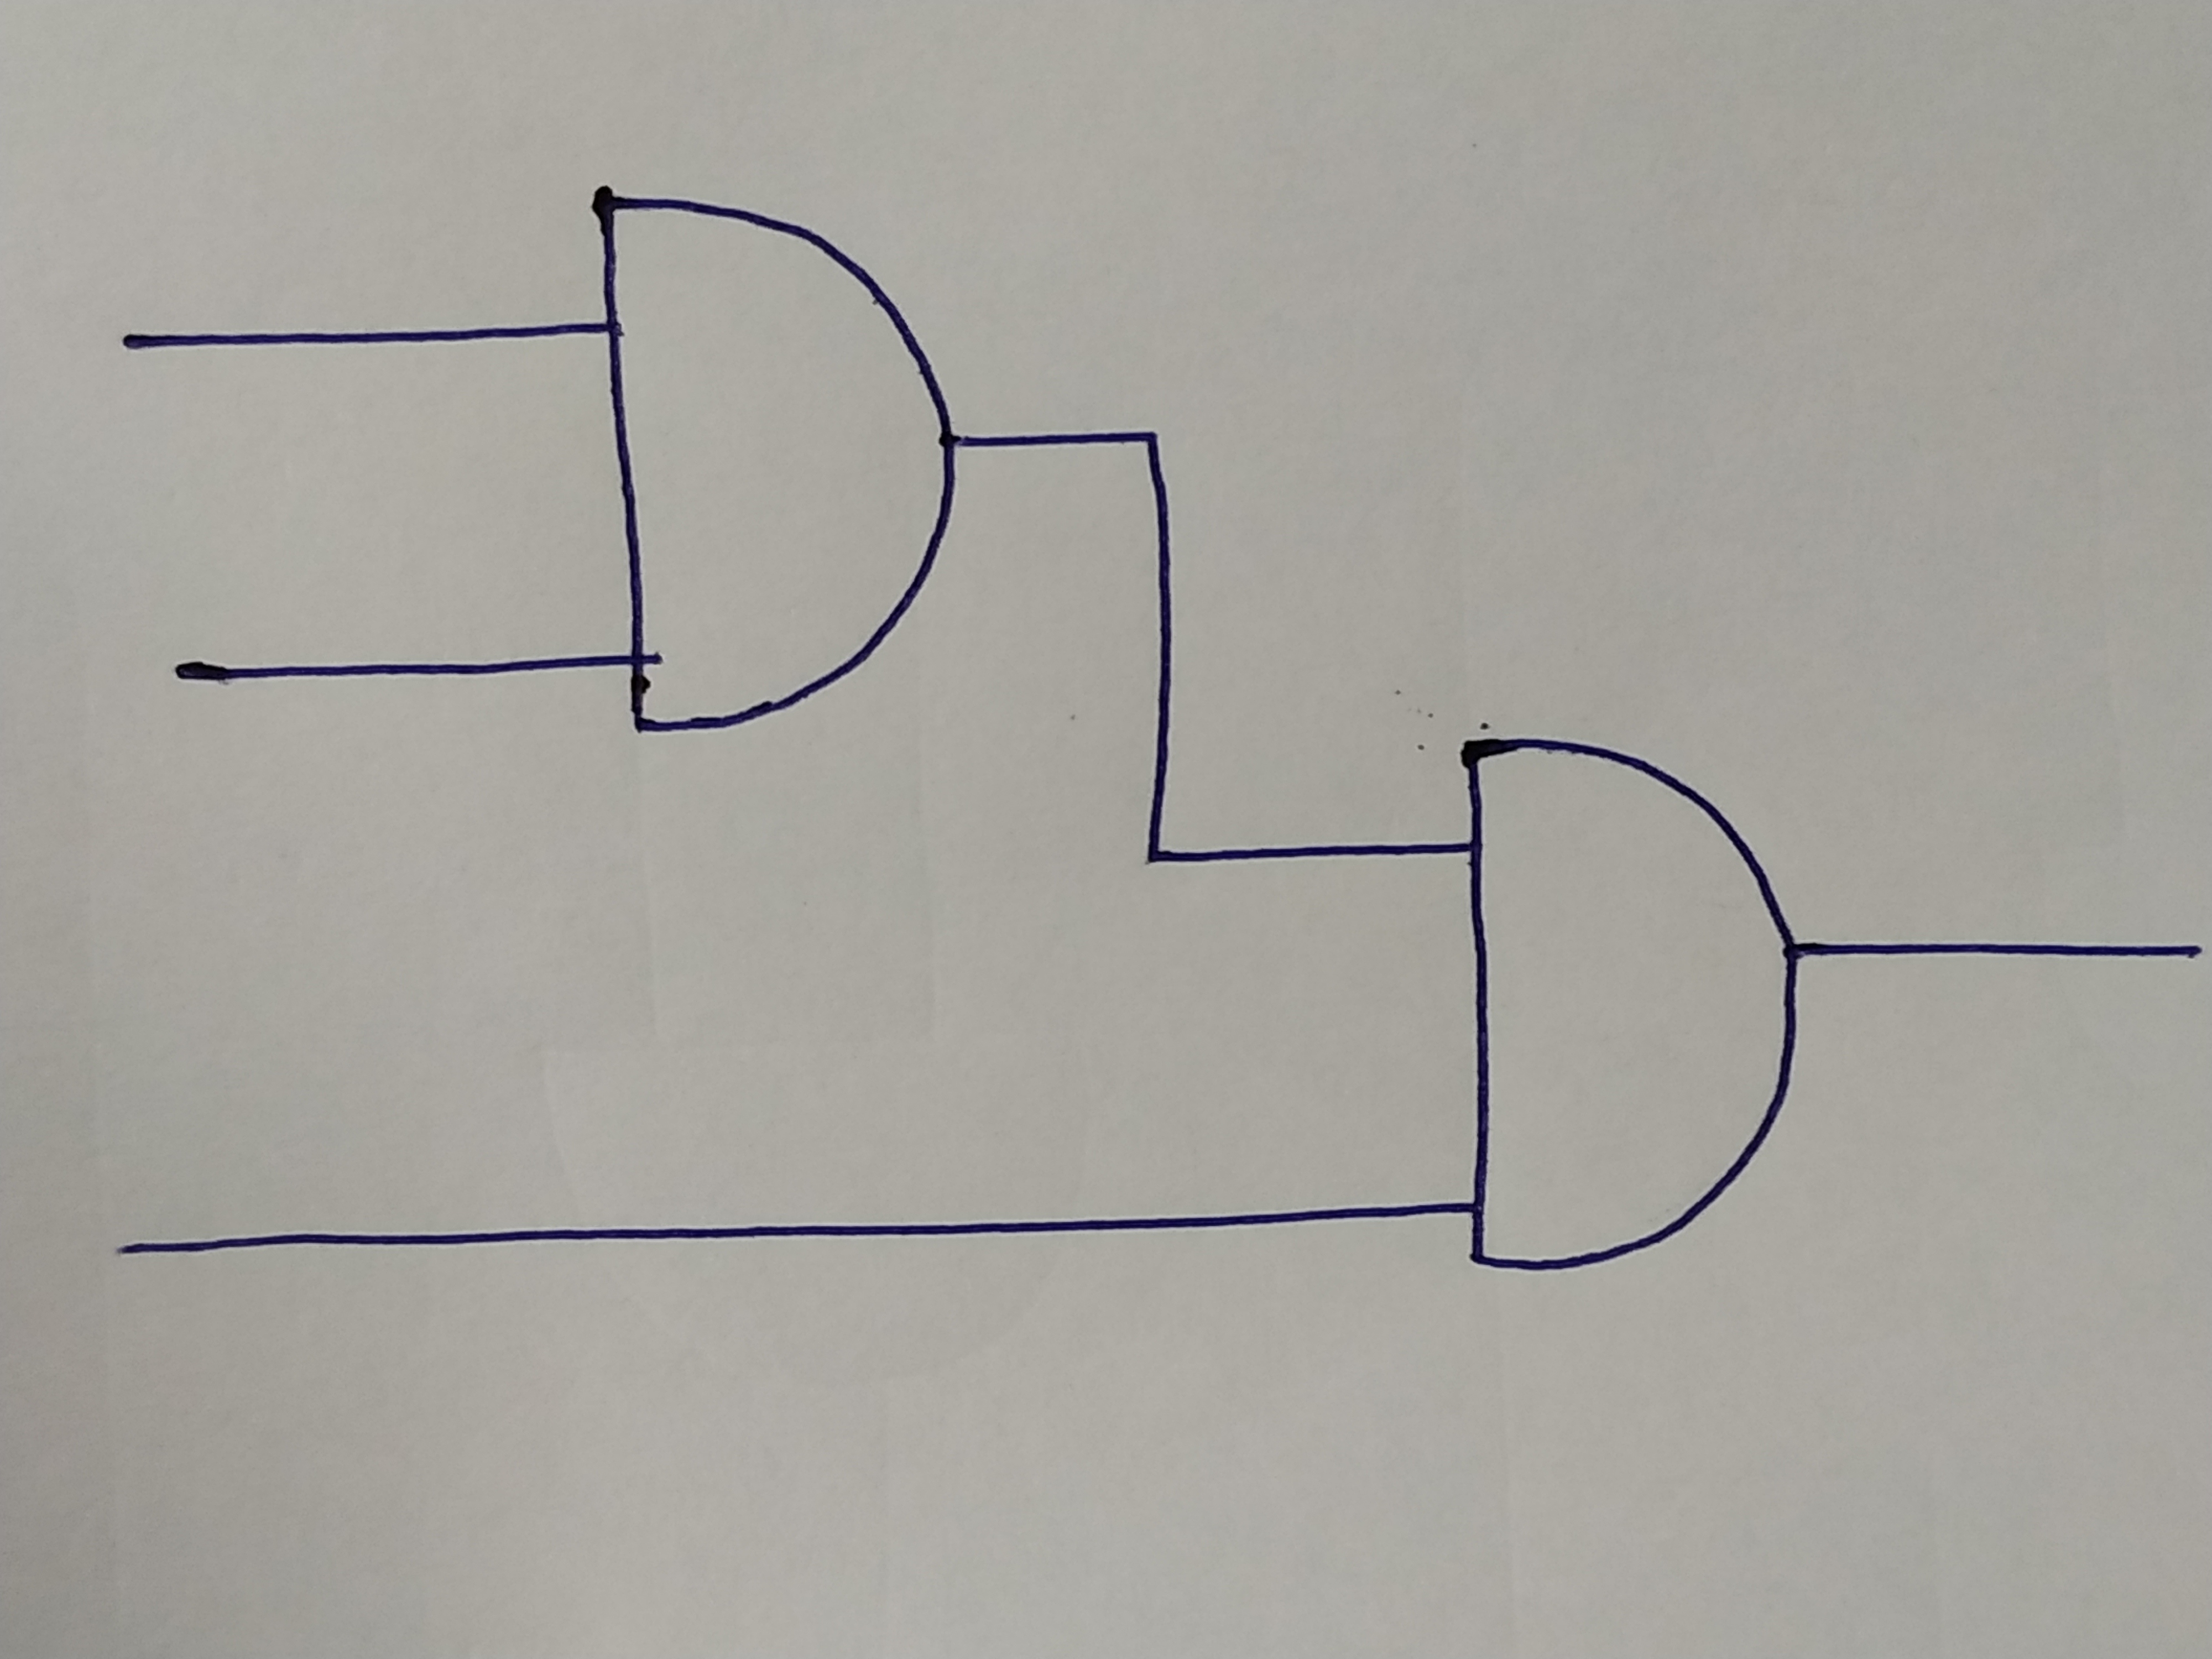and: (599, 192, 948, 737), (1461, 737, 1791, 1270)
